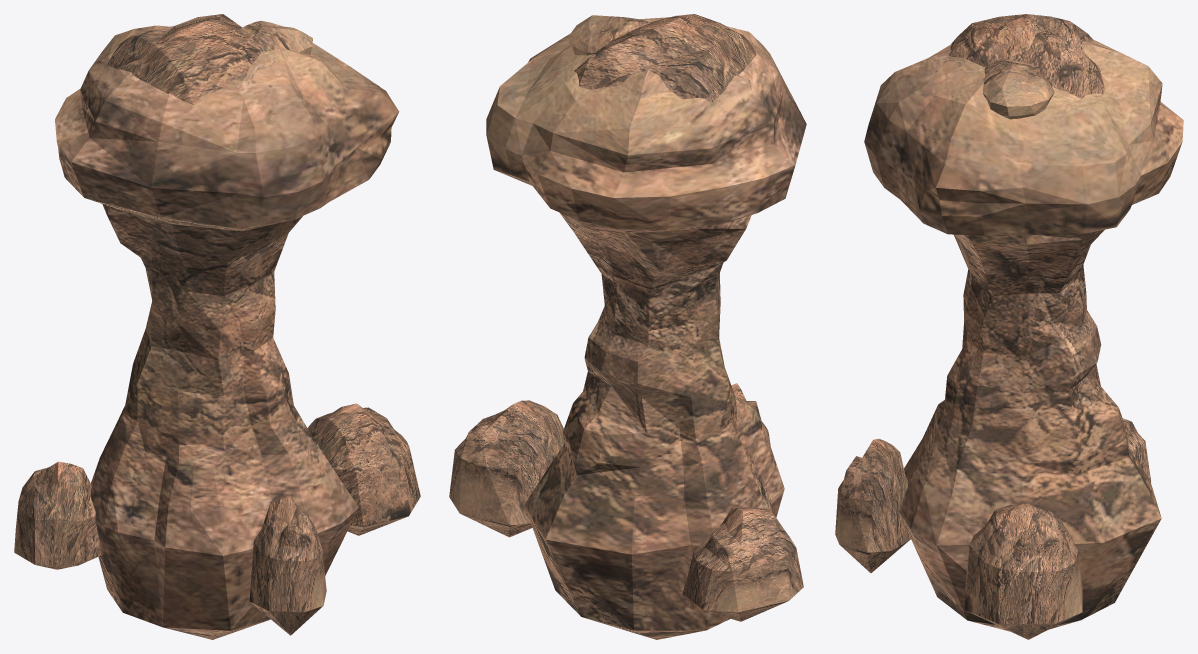
Rendered from rock_tatt_mushroom_l0.fbx.
3 renders of one model, left to right at view 1: azimuth 30°, elevation 25°; view 2: azimuth 150°, elevation 25°; view 3: azimuth 270°, elevation 25°, orthographic. The views are drawn at different scales.
Parts seen in each view (by area): view 1: mesh_node; view 2: mesh_node; view 3: mesh_node.
Boxes of the visible parts, x1,y1,x2,y2 form: mesh_node: (14, 14, 420, 639); mesh_node: (449, 14, 806, 639); mesh_node: (835, 14, 1183, 639).
Size of the model in its own units: 30.03 by 49.51 by 25.89.
